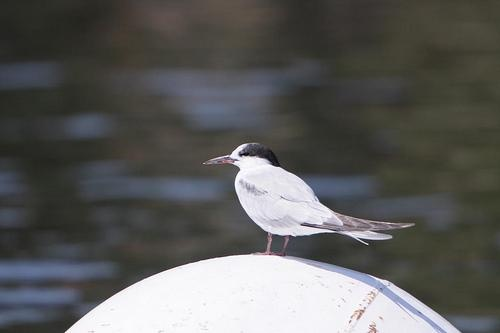bird: (202, 141, 414, 269)
